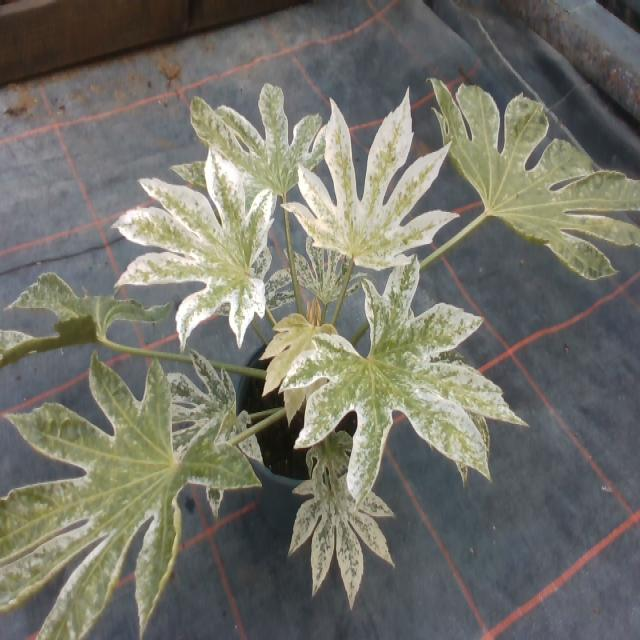Fatsia-japonica: (0, 366, 261, 640), (276, 256, 520, 495), (416, 55, 640, 306), (113, 167, 288, 346), (276, 98, 450, 267), (154, 69, 316, 209), (0, 244, 143, 383), (272, 467, 408, 592), (163, 349, 268, 509), (285, 228, 361, 304)
